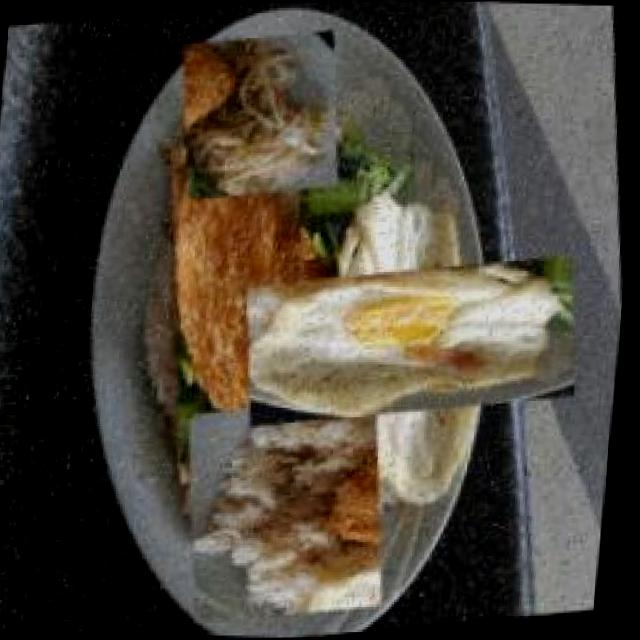fried_chicken: (147, 128, 372, 492)
fried_eggs: (276, 207, 558, 476)
mung_bean_sprouts: (170, 25, 357, 204)
rice: (174, 395, 414, 627)
water_spinach: (291, 123, 420, 266)
